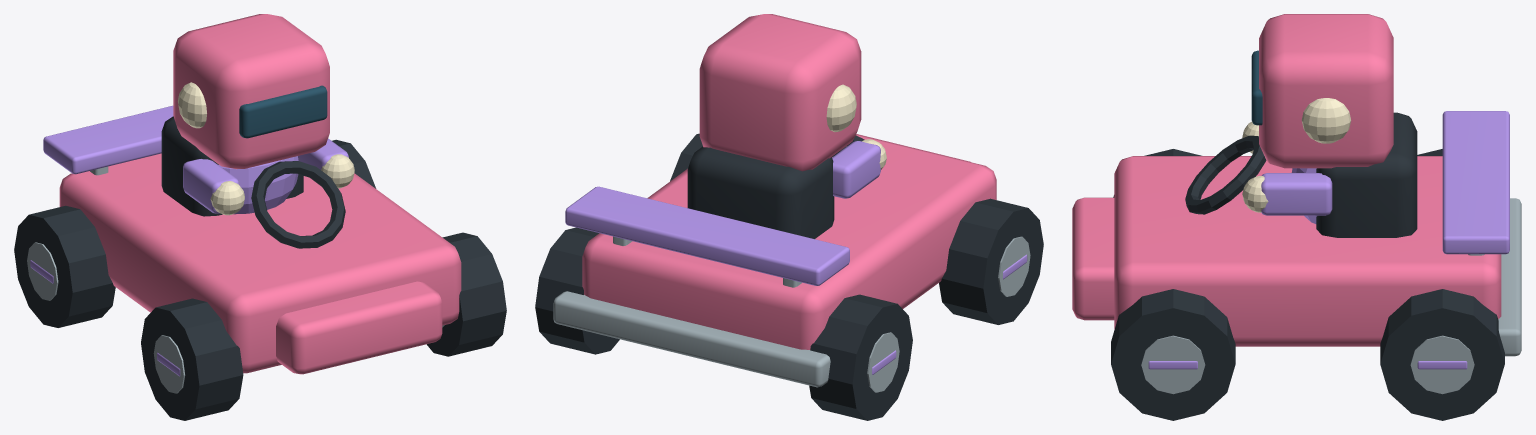
File: kart-1.glb
3 renders of one model, left to right at view 1: azimuth 30°, elevation 25°; view 2: azimuth 150°, elevation 25°; view 3: azimuth 270°, elevation 25°, orthographic. The views are drawn at different scales.
Parts seen in each view (by area): view 1: Body.001, Helmet.001, Sport nose, Tire.004, Tire.005, Tire.006, Wing, Steering wheel.001, Visor.001, Seat.001, Suit.001, Sleeve.002 (+7 smaller); view 2: Body.001, Helmet.001, Wing, Seat.001, Rear bumper.001, Tire.004, Tire.005, Tire.007, Sleeve.002, Hub.004, Hub.005, Ear pod (+1 smaller); view 3: Body.001, Helmet.001, Tire.006, Tire.007, Wing, Seat.001, Sport nose, Sleeve.003, Steering wheel.001, Rear bumper.001, Hub.007, Hub.006 (+5 smaller).
Part boxes in pixels (x1,y1,x2,y2): Body.001: (59,153,461,373); Helmet.001: (173,14,329,169); Sport nose: (276,281,442,374); Tire.004: (141,298,243,420); Tire.005: (14,205,115,327); Tire.006: (427,232,506,356); Wing: (43,105,173,174); Steering wheel.001: (251,161,345,248); Visor.001: (239,85,327,138); Seat.001: (161,116,303,216); Suit.001: (218,156,298,214); Sleeve.002: (183,159,239,213); Body.001: (582,134,996,349); Helmet.001: (699,14,861,171); Wing: (565,186,849,285); Seat.001: (687,146,834,238); Rear bumper.001: (553,291,830,387); Tire.004: (939,198,1043,324); Tire.005: (809,294,912,420); Tire.007: (535,227,619,354); Sleeve.002: (832,141,880,198); Hub.004: (998,236,1030,296); Hub.005: (867,332,899,392); Ear pod: (826,84,856,132); Body.001: (1114,156,1501,346); Helmet.001: (1259,14,1393,168); Tire.006: (1111,289,1235,420); Tire.007: (1380,289,1504,420); Wing: (1442,111,1509,254); Seat.001: (1316,112,1417,237); Sport nose: (1072,197,1114,320); Sleeve.003: (1261,173,1332,215); Steering wheel.001: (1185,135,1266,214); Rear bumper.001: (1498,198,1521,356); Hub.007: (1410,335,1474,394); Hub.006: (1141,335,1205,394).
Size of the model in its own units: 2.27 by 2.02 by 2.67.
